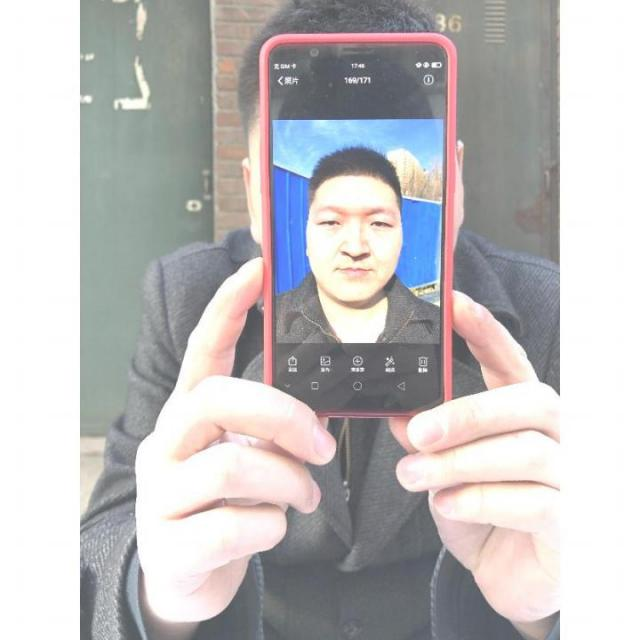device: (256, 30, 459, 422)
